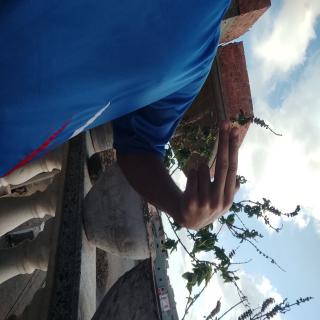GHAYN: (89, 100, 174, 201)
